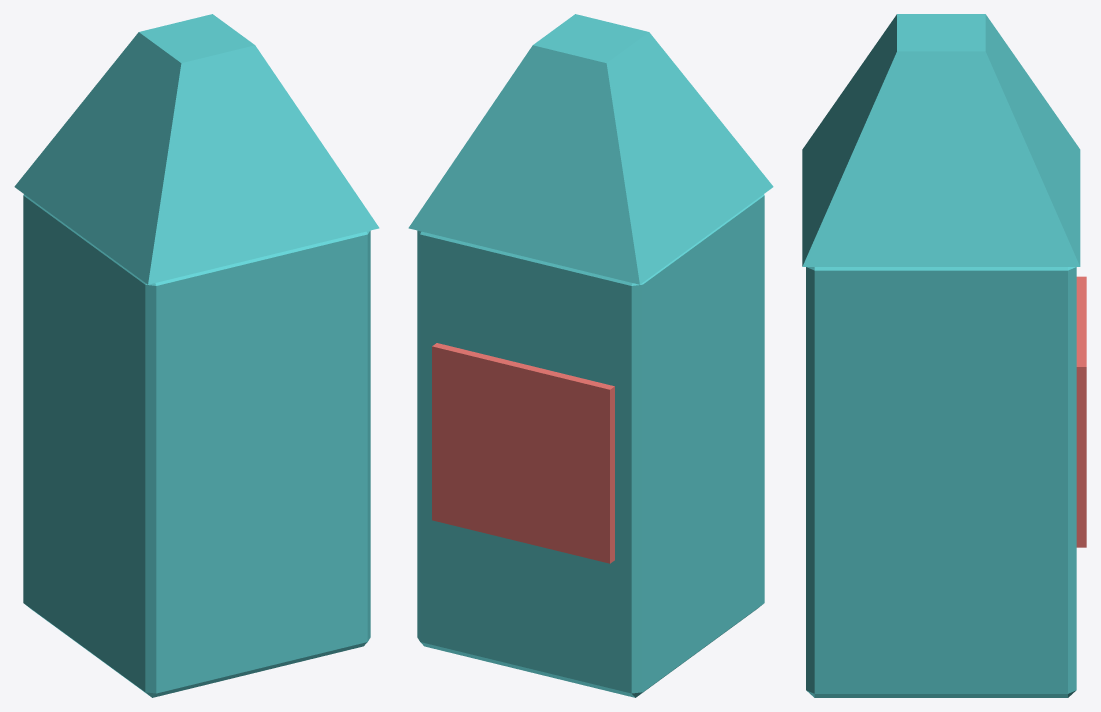
File: Brik_Leche.fbx
The picture shows the model from 3 angles, left to right: view 1: azimuth 30°, elevation 25°; view 2: azimuth 150°, elevation 25°; view 3: azimuth 270°, elevation 25°; orthographic projection. The views are drawn at different scales.
Visible parts, largest first — view 1: Brik_Leche | Brik, Brik_Leche | Tejado brik; view 2: Brik_Leche | Brik, Brik_Leche | Tejado brik, Brik_Leche | Etiqueta brik; view 3: Brik_Leche | Brik, Brik_Leche | Tejado brik, Brik_Leche | Etiqueta brik.
Part boxes in pixels (x1=…): Brik_Leche | Brik: x1=23, y1=194, x2=370, y2=697; Brik_Leche | Tejado brik: x1=14, y1=14, x2=379, y2=284; Brik_Leche | Brik: x1=417, y1=194, x2=764, y2=697; Brik_Leche | Tejado brik: x1=408, y1=14, x2=773, y2=284; Brik_Leche | Etiqueta brik: x1=432, y1=343, x2=614, y2=563; Brik_Leche | Brik: x1=806, y1=267, x2=1076, y2=697; Brik_Leche | Tejado brik: x1=802, y1=14, x2=1080, y2=266; Brik_Leche | Etiqueta brik: x1=1076, y1=276, x2=1086, y2=547.
Bounding box in the file's own units: 0.0976 × 0.237 × 0.0998.
